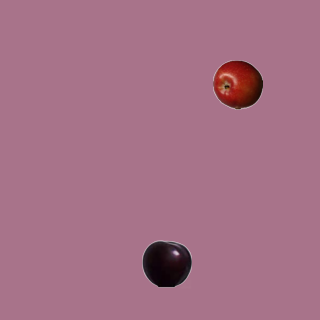Apple Braeburn: (212, 59, 262, 109)
Cherry Wax Black: (141, 238, 191, 288)
